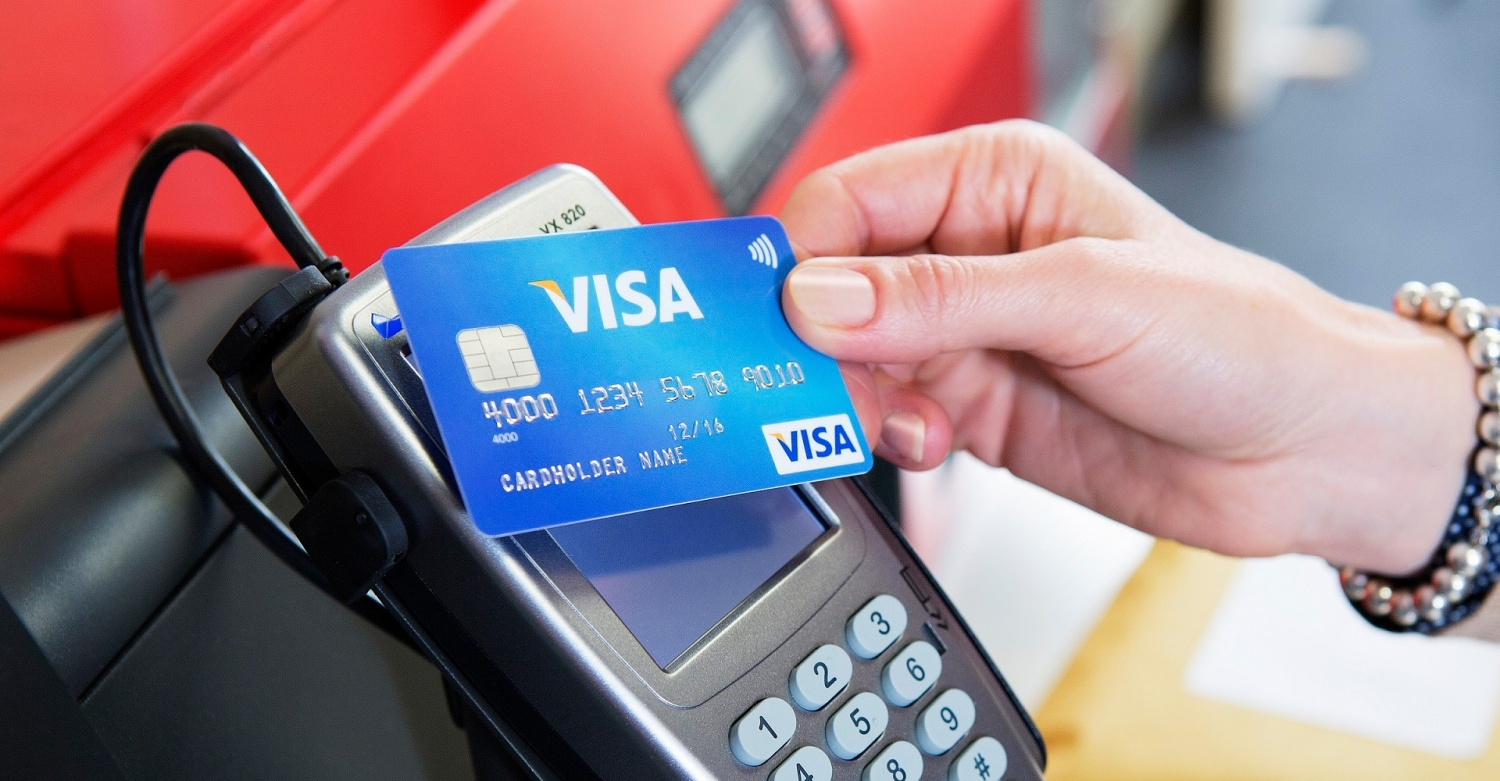card: (380, 209, 878, 528)
